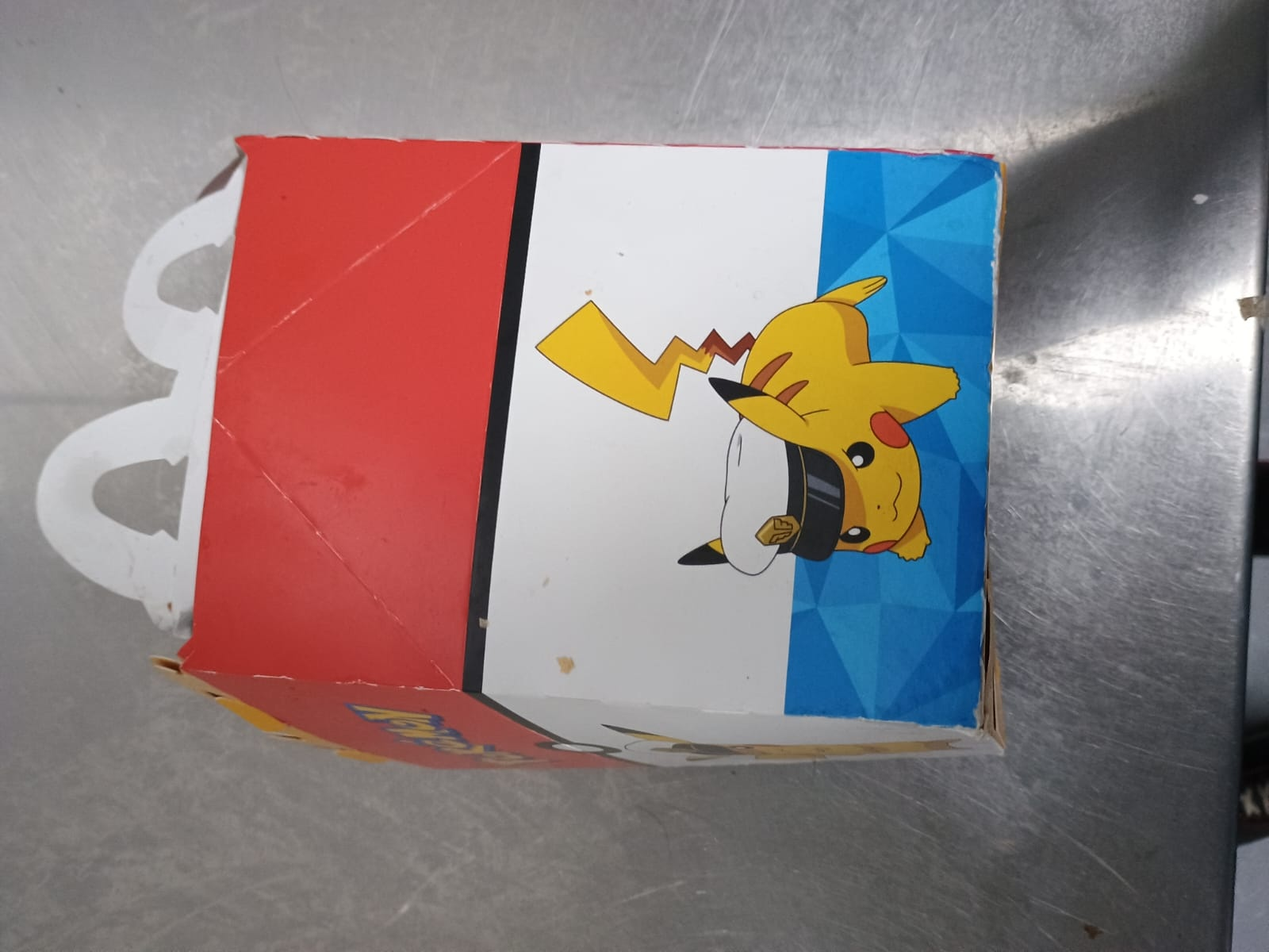Carton: (36, 137, 1002, 765)
